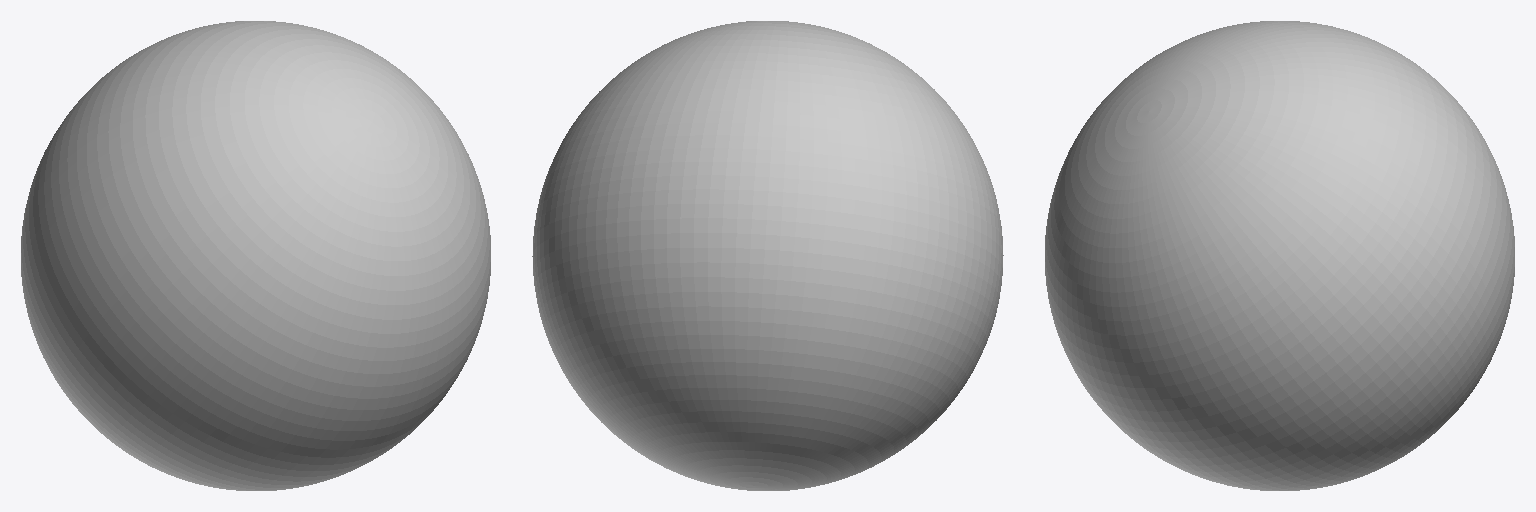
Rendered from Uranus.obj.
3 renders of one model, left to right at view 1: azimuth 30°, elevation 25°; view 2: azimuth 150°, elevation 25°; view 3: azimuth 270°, elevation 25°, orthographic.
Parts seen in each view (by area): view 1: Sphere; view 2: Sphere; view 3: Sphere.
Part boxes in pixels (left/top/right/bottom): Sphere: left=21, top=21, right=490, bottom=490; Sphere: left=532, top=21, right=1003, bottom=490; Sphere: left=1045, top=21, right=1514, bottom=490.
Size of the model in its own units: 89.3 by 89.28 by 89.26.